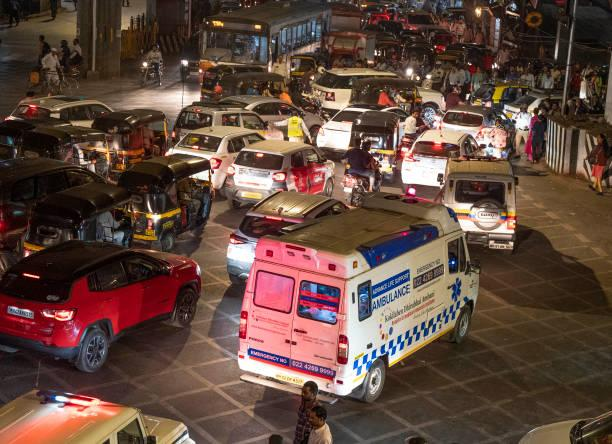AMBULANCE: (242, 191, 482, 398)
